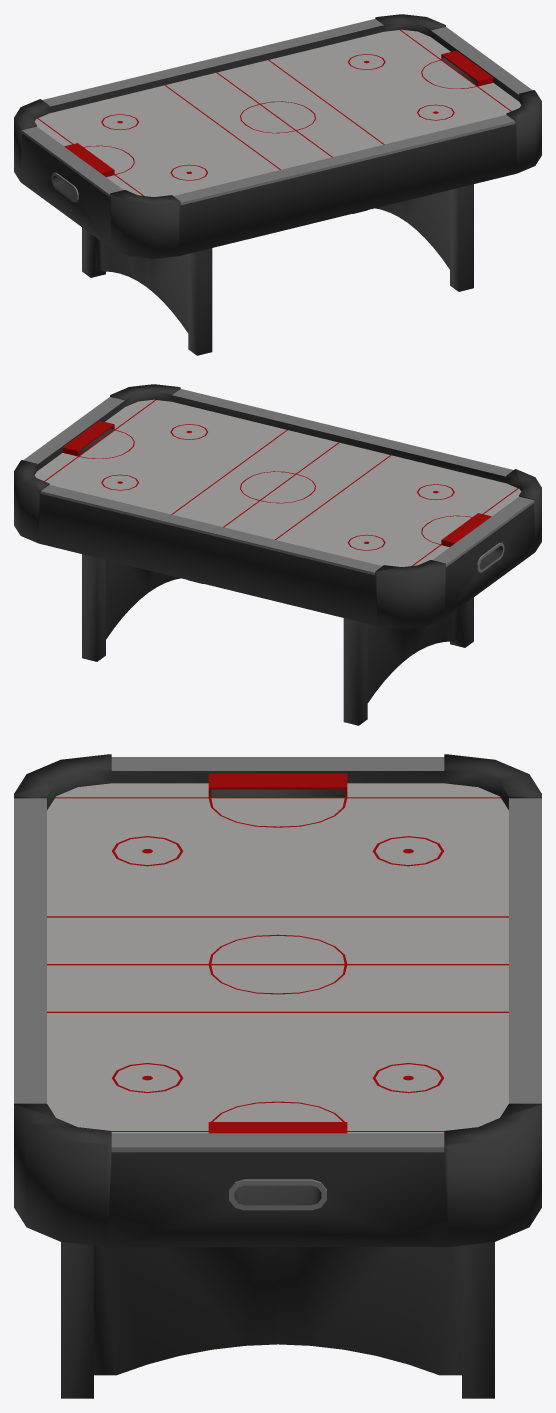
File: table.obj
3 renders of one model, top to bottom at view 1: azimuth 30°, elevation 25°; view 2: azimuth 150°, elevation 25°; view 3: azimuth 270°, elevation 25°, orthographic. The views are drawn at different scales.
Visible parts, largest first — view 1: ID3.002_ID96.005; view 2: ID3.002_ID96.005; view 3: ID3.002_ID96.005.
Part boxes in pixels (left/top/right/bottom): ID3.002_ID96.005: left=14, top=14, right=541, bottom=355; ID3.002_ID96.005: left=14, top=384, right=541, bottom=725; ID3.002_ID96.005: left=14, top=754, right=541, bottom=1398.
Size of the model in its own units: 15.69 by 5.99 by 8.91.
